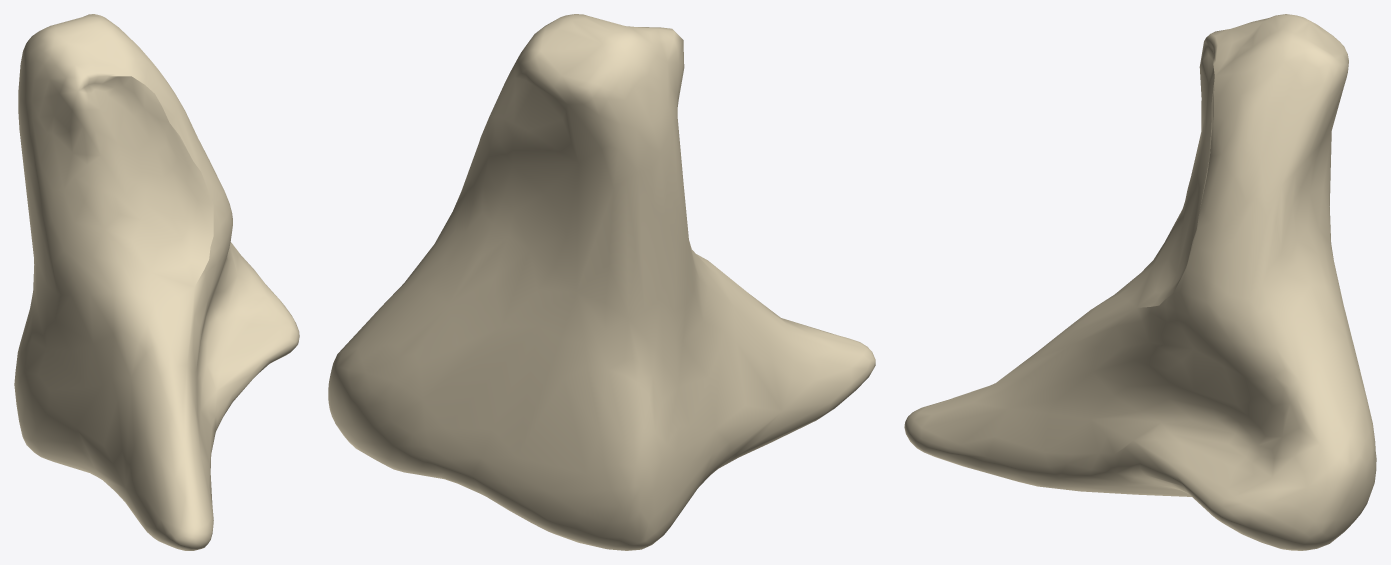
File: esqueleto-arytenoid-cartilage-l.glb
The picture shows the model from 3 angles, left to right: view 1: azimuth 30°, elevation 25°; view 2: azimuth 150°, elevation 25°; view 3: azimuth 270°, elevation 25°; orthographic projection. The views are drawn at different scales.
Visible parts, largest first — view 1: Arytenoid cartilage.l; view 2: Arytenoid cartilage.l; view 3: Arytenoid cartilage.l.
Part boxes in pixels (x1,y1,x2,y2): Arytenoid cartilage.l: (14, 14, 299, 550); Arytenoid cartilage.l: (328, 14, 875, 550); Arytenoid cartilage.l: (904, 14, 1376, 550).
Size of the model in its own units: 0.00544 by 0.00807 by 0.00726.
